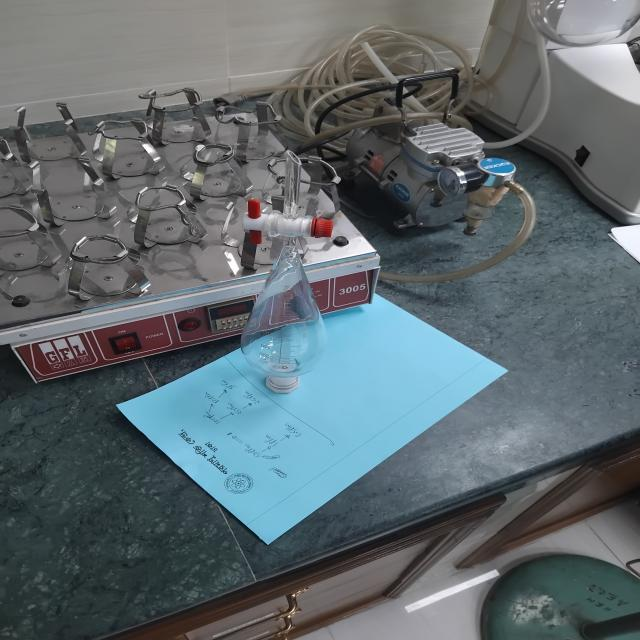Separating_Funnel: (206, 140, 364, 416)
